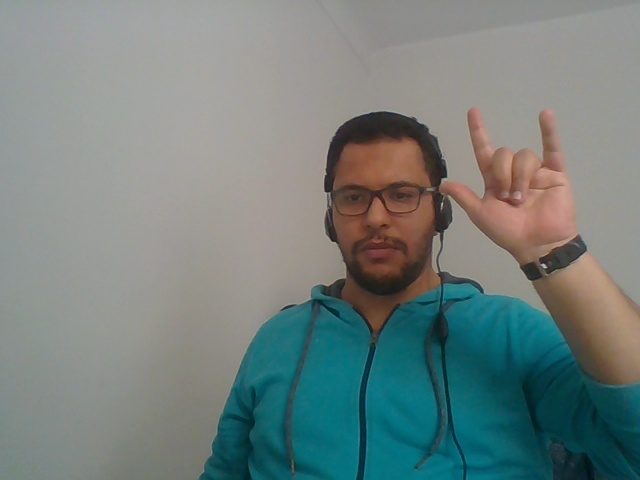iloveyou: (436, 90, 613, 322)
